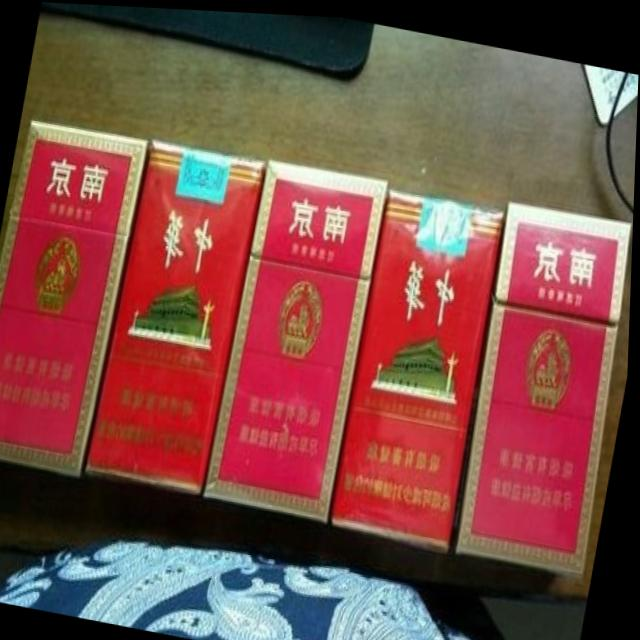box: (205, 156, 390, 519), (458, 196, 634, 570), (87, 137, 267, 491), (334, 185, 506, 547), (0, 116, 151, 476)
